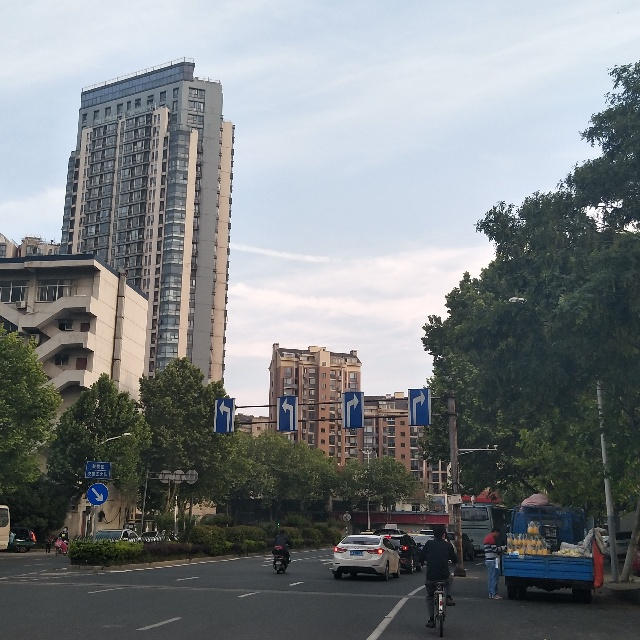left: (276, 396, 299, 432), (214, 398, 235, 433)
right: (341, 392, 364, 429), (408, 389, 431, 426)
